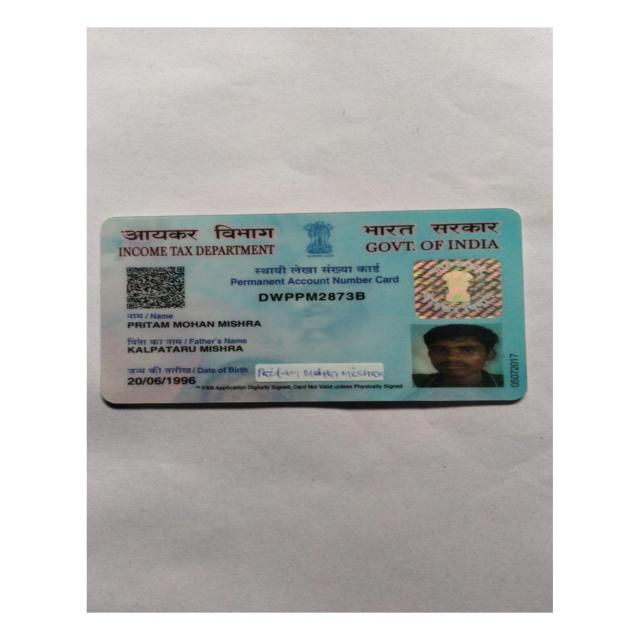pan_card: (101, 213, 521, 405)
